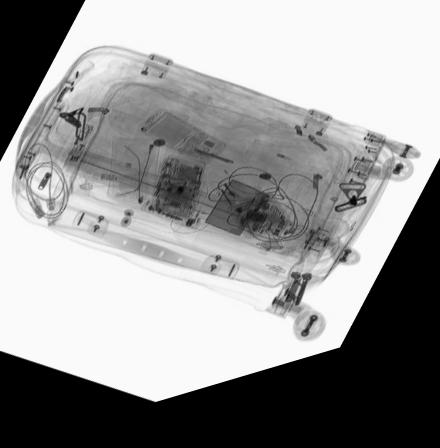Lighter: (253, 228, 278, 255)
